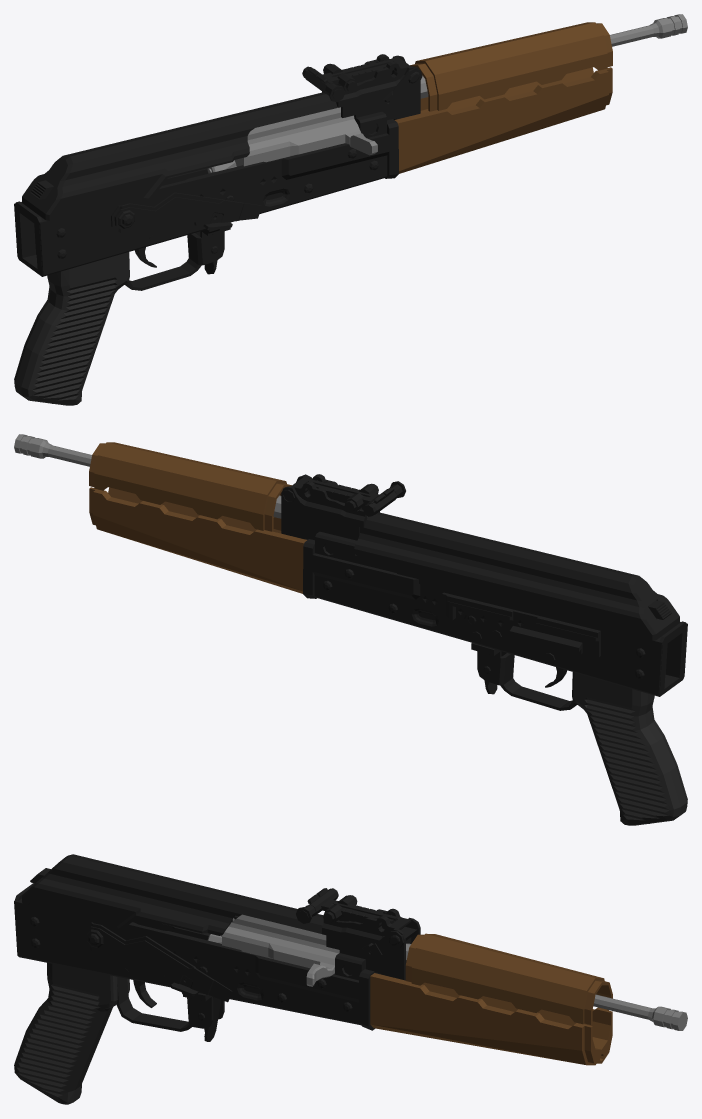
File: tabuk_sniper_rifle.glb
The picture shows the model from 3 angles, top to bottom: view 1: azimuth 30°, elevation 25°; view 2: azimuth 150°, elevation 25°; view 3: azimuth 330°, elevation 25°; orthographic projection.
Parts seen in each view (by area): view 1: tabuksnp receiver_11, tabuksnp handguard_12 (×2), tabuksnp dust cover_10, tabuksnp pistol grip_13, tabuksnp bolt carrier_5, tabuksnp selector_8; view 2: tabuksnp receiver_11, tabuksnp handguard_12 (×2), tabuksnp dust cover_10, tabuksnp pistol grip_13, tabuksnp bolt carrier_5; view 3: tabuksnp receiver_11, tabuksnp handguard_12 (×2), tabuksnp dust cover_10, tabuksnp pistol grip_13, tabuksnp bolt carrier_5, tabuksnp selector_8, tabuksnp mag release_6.
Part boxes in pixels (x1=…): tabuksnp receiver_11: x1=14, y1=54, x2=422, y2=290; tabuksnp handguard_12 (×2): x1=385, y1=22, x2=612, y2=178; tabuksnp dust cover_10: x1=22, y1=92, x2=337, y2=220; tabuksnp pistol grip_13: x1=14, y1=252, x2=129, y2=405; tabuksnp bolt carrier_5: x1=207, y1=14, x2=687, y2=173; tabuksnp selector_8: x1=111, y1=192, x2=261, y2=233; tabuksnp receiver_11: x1=281, y1=474, x2=687, y2=710; tabuksnp handguard_12 (×2): x1=89, y1=442, x2=316, y2=598; tabuksnp dust cover_10: x1=354, y1=512, x2=679, y2=640; tabuksnp pistol grip_13: x1=572, y1=672, x2=687, y2=825; tabuksnp bolt carrier_5: x1=14, y1=434, x2=281, y2=518; tabuksnp receiver_11: x1=14, y1=868, x2=420, y2=1031; tabuksnp handguard_12 (×2): x1=359, y1=933, x2=612, y2=1065; tabuksnp dust cover_10: x1=22, y1=854, x2=338, y2=935; tabuksnp pistol grip_13: x1=14, y1=963, x2=129, y2=1104; tabuksnp bolt carrier_5: x1=207, y1=914, x2=687, y2=1030; tabuksnp selector_8: x1=84, y1=922, x2=232, y2=1002; tabuksnp mag release_6: x1=198, y1=997, x2=221, y2=1041.
Bounding box in the file's own units: 4.96 × 1.92 × 0.6593.
